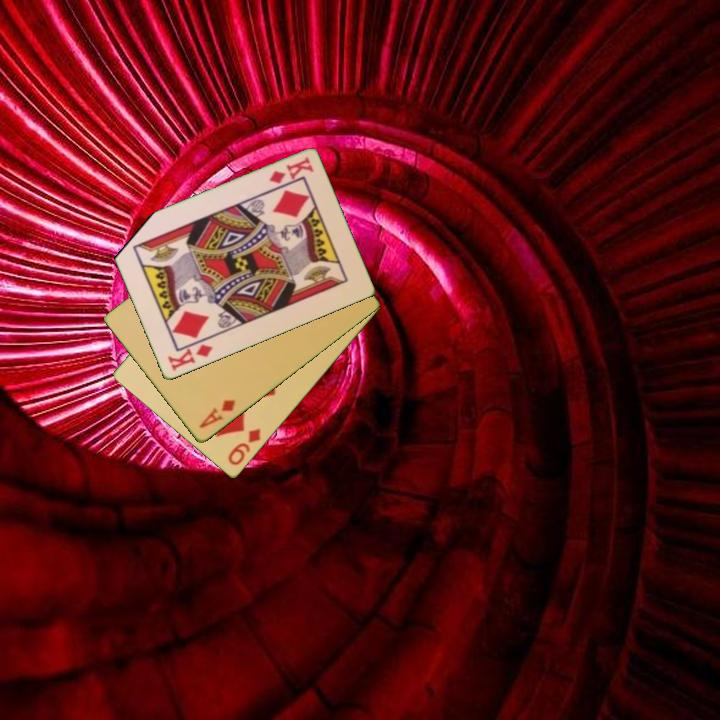9d: (224, 425, 264, 469)
Ad: (195, 396, 238, 432)
Kd: (164, 335, 215, 374), (265, 153, 316, 187)
